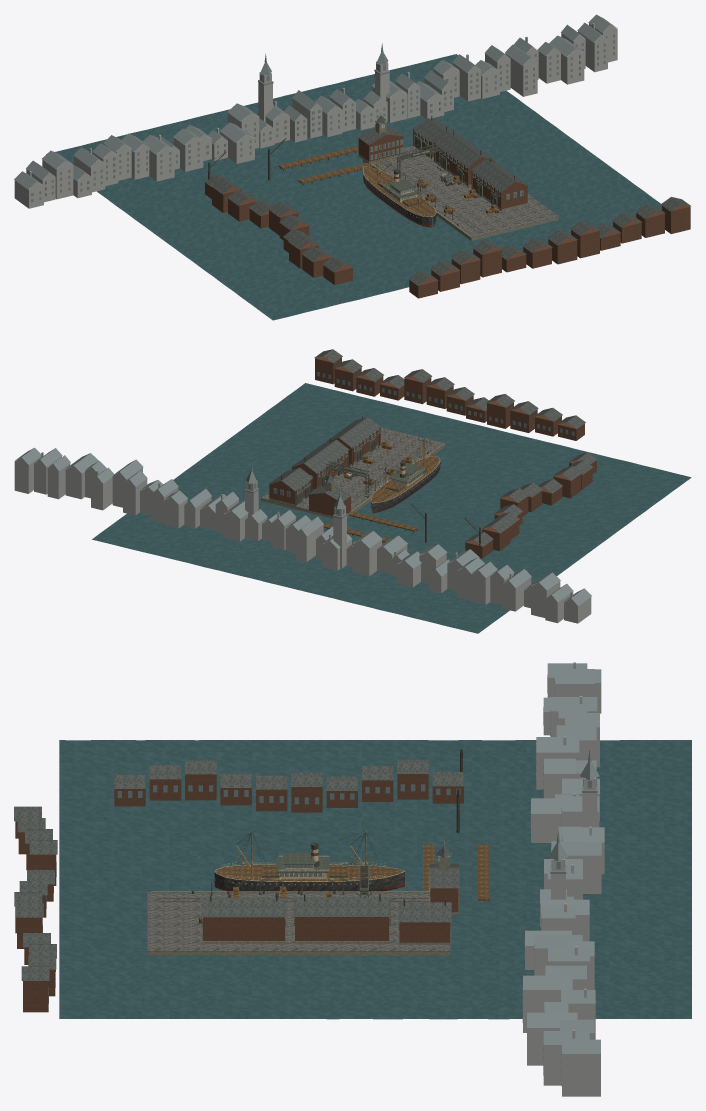
Rendered from harbor.glb.
The picture shows the model from 3 angles, top to bottom: view 1: azimuth 30°, elevation 25°; view 2: azimuth 150°, elevation 25°; view 3: azimuth 270°, elevation 25°; orthographic projection. The views are drawn at different scales.
Parts seen in each view (by area): view 1: water, farwall, brick, farroof, roof, cobble, timber, stone, green, steel, tar, panes (+2 smaller); view 2: water, farwall, brick, farroof, roof, cobble, timber, green, steel, stone, panes, tar (+1 smaller); view 3: water, farroof, brick, roof, farwall, cobble, timber, stone, steel, panes, green, cream (+1 smaller).
Boxes of the visible parts, left/top/right/bottom form: water: left=46, top=54, right=661, bottom=320; farwall: left=14, top=23, right=617, bottom=208; brick: left=205, top=129, right=690, bottom=298; farroof: left=14, top=14, right=617, bottom=201; roof: left=204, top=115, right=691, bottom=285; cobble: left=372, top=146, right=558, bottom=237; timber: left=278, top=146, right=499, bottom=216; stone: left=358, top=122, right=558, bottom=240; green: left=377, top=137, right=496, bottom=219; steel: left=210, top=115, right=522, bottom=231; tar: left=208, top=116, right=514, bottom=225; panes: left=366, top=132, right=523, bottom=217; water: left=92, top=383, right=691, bottom=633; farwall: left=14, top=452, right=591, bottom=623; brick: left=269, top=356, right=596, bottom=558; farroof: left=15, top=447, right=591, bottom=605; roof: left=269, top=349, right=597, bottom=546; cobble: left=261, top=427, right=445, bottom=510; timber: left=323, top=441, right=440, bottom=542; green: left=297, top=437, right=427, bottom=504; steel: left=274, top=415, right=478, bottom=532; stone: left=261, top=428, right=445, bottom=518; panes: left=274, top=372, right=574, bottom=500; tar: left=281, top=416, right=480, bottom=545; water: left=59, top=740, right=691, bottom=1019; farroof: left=438, top=663, right=604, bottom=1086; brick: left=15, top=774, right=463, bottom=1012; roof: left=14, top=759, right=463, bottom=980; farwall: left=523, top=662, right=604, bottom=1096; cobble: left=147, top=891, right=450, bottom=951; timber: left=199, top=844, right=489, bottom=923; stone: left=147, top=858, right=458, bottom=955; steel: left=160, top=752, right=462, bottom=924; panes: left=42, top=784, right=460, bottom=1003; green: left=211, top=853, right=368, bottom=897; cream: left=214, top=830, right=438, bottom=881.
Size of the model in its own units: 243 by 34.4 by 173.
23 materials, 14 textured.
